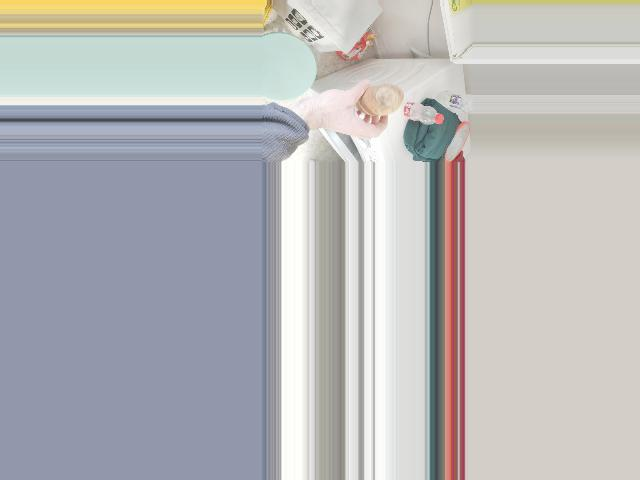sweet_potato: (352, 78, 406, 118)
